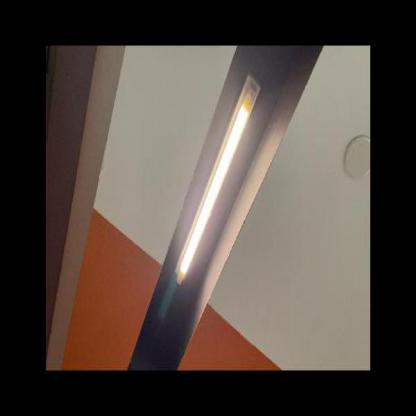light_on: (158, 69, 263, 295)
